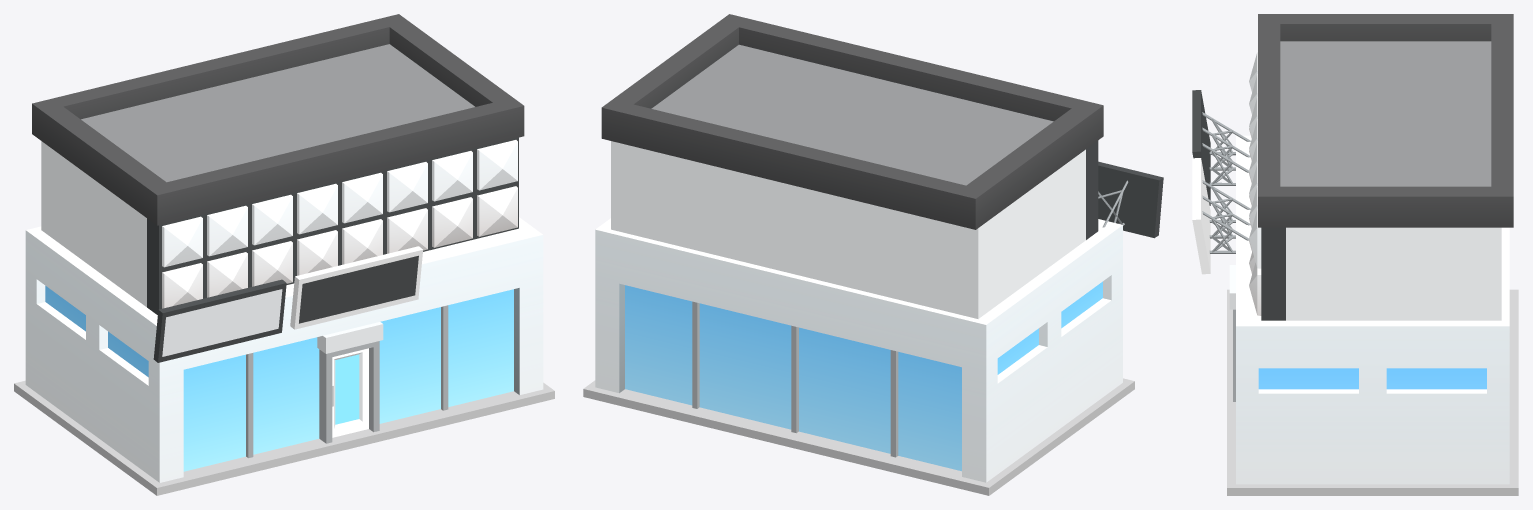
Rendered from Building_Supermarket_02.glb.
The picture shows the model from 3 angles, left to right: view 1: azimuth 30°, elevation 25°; view 2: azimuth 150°, elevation 25°; view 3: azimuth 270°, elevation 25°; orthographic projection. The views are drawn at different scales.
Parts seen in each view (by area): view 1: Building_Supermarket_02; view 2: Building_Supermarket_02; view 3: Building_Supermarket_02.
Part boxes in pixels (box(x1,y1,x2,y2)): Building_Supermarket_02: box(14, 14, 554, 495); Building_Supermarket_02: box(583, 14, 1163, 495); Building_Supermarket_02: box(1192, 14, 1518, 495).
Size of the model in its own units: 10.83 by 7.22 by 7.33.
Materials: 1 (1 with a texture image).
